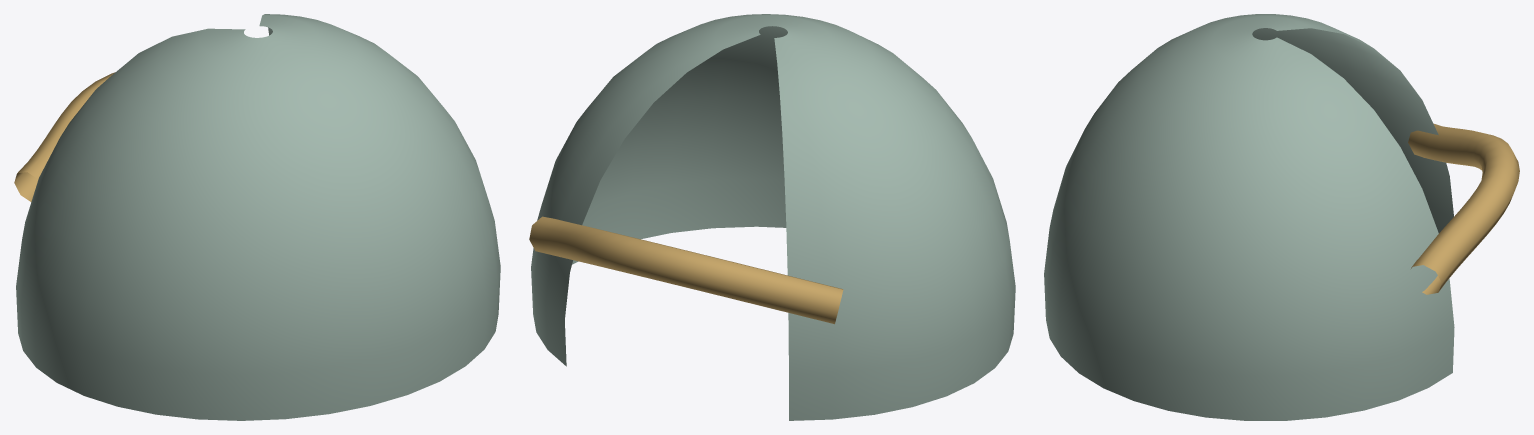
File: ranger_hood.glb
3 views of the same model, side by side, from view 1: azimuth 30°, elevation 25°; view 2: azimuth 150°, elevation 25°; view 3: azimuth 270°, elevation 25° (orthographic). The views are drawn at different scales.
Visible parts, largest first — view 1: Open faced helm, Brow band; view 2: Open faced helm, Brow band; view 3: Open faced helm, Brow band.
Boxes of the visible parts, left/top/right/bottom form: Open faced helm: left=16, top=14, right=500, bottom=420; Brow band: left=14, top=72, right=114, bottom=201; Open faced helm: left=531, top=14, right=1015, bottom=420; Brow band: left=529, top=216, right=843, bottom=324; Open faced helm: left=1044, top=14, right=1454, bottom=420; Brow band: left=1408, top=123, right=1519, bottom=294.
Size of the model in its own units: 0.6965 by 0.4548 by 0.6867.
